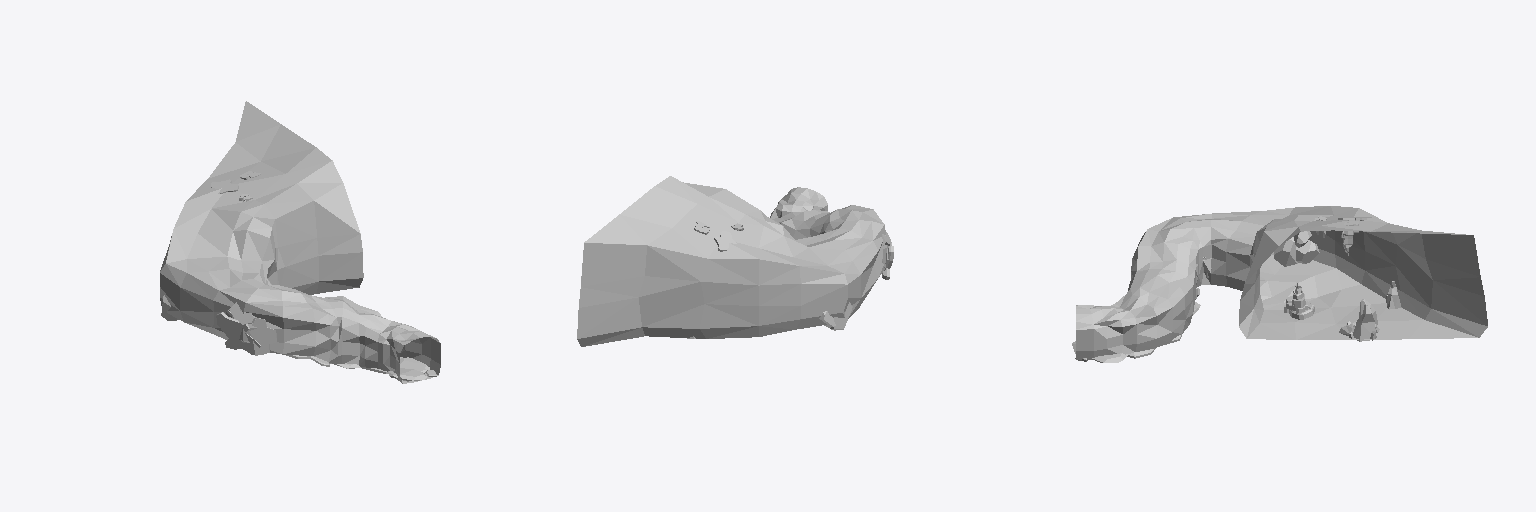
The model's file is twisting-tunnel.obj.
The picture shows the model from 3 angles: view 1: azimuth 30°, elevation 25°; view 2: azimuth 150°, elevation 25°; view 3: azimuth 270°, elevation 25°; orthographic projection.
Size of the model in its own units: 12.8 by 9.36 by 25.98.